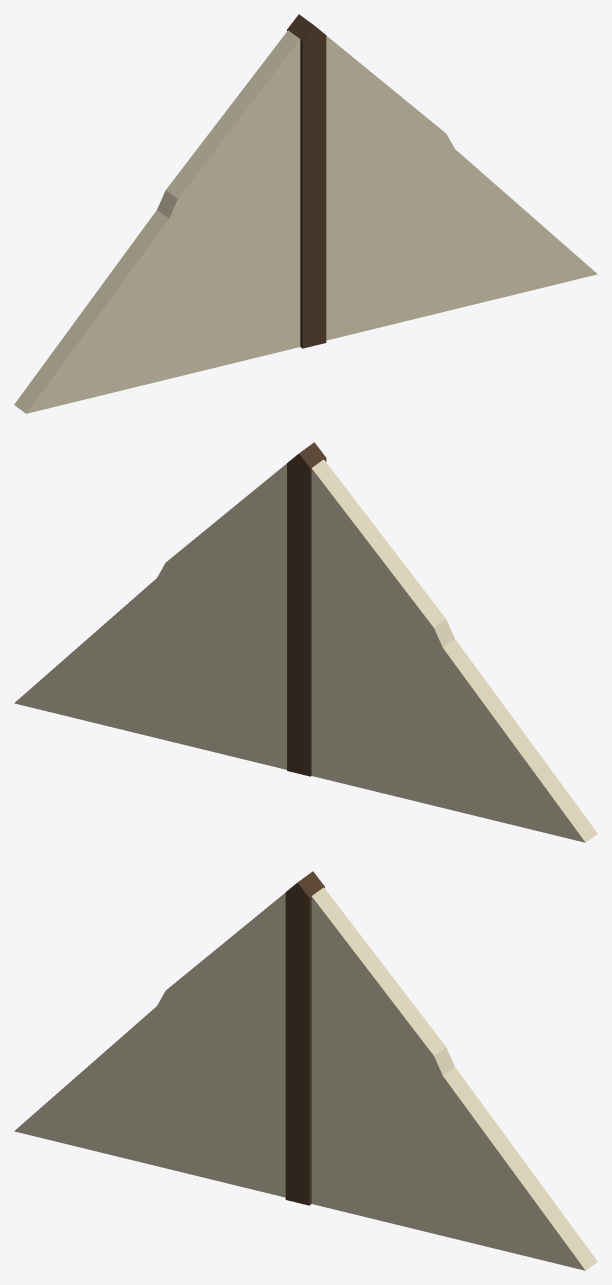
File: two_tile_gable.glb
3 views of the same model, one above another, from view 1: azimuth 30°, elevation 25°; view 2: azimuth 150°, elevation 25°; view 3: azimuth 330°, elevation 25° (orthographic).
Parts seen in each view (by area): view 1: Two-tile gable; view 2: Two-tile gable; view 3: Two-tile gable.
Part boxes in pixels (x1,y1,x2,y2): Two-tile gable: (14,14,597,413); Two-tile gable: (14,442,597,842); Two-tile gable: (14,871,597,1270).
Size of the model in its own units: 1.7 by 0.91 by 0.08.
